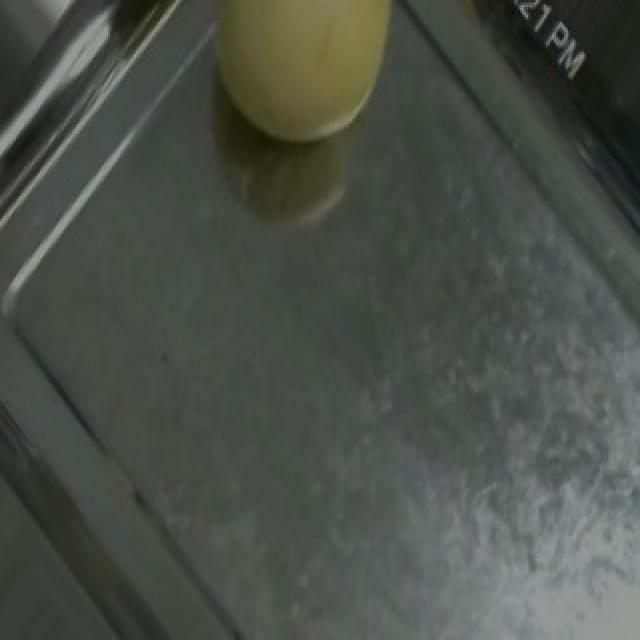Fruit: (170, 0, 430, 179)
